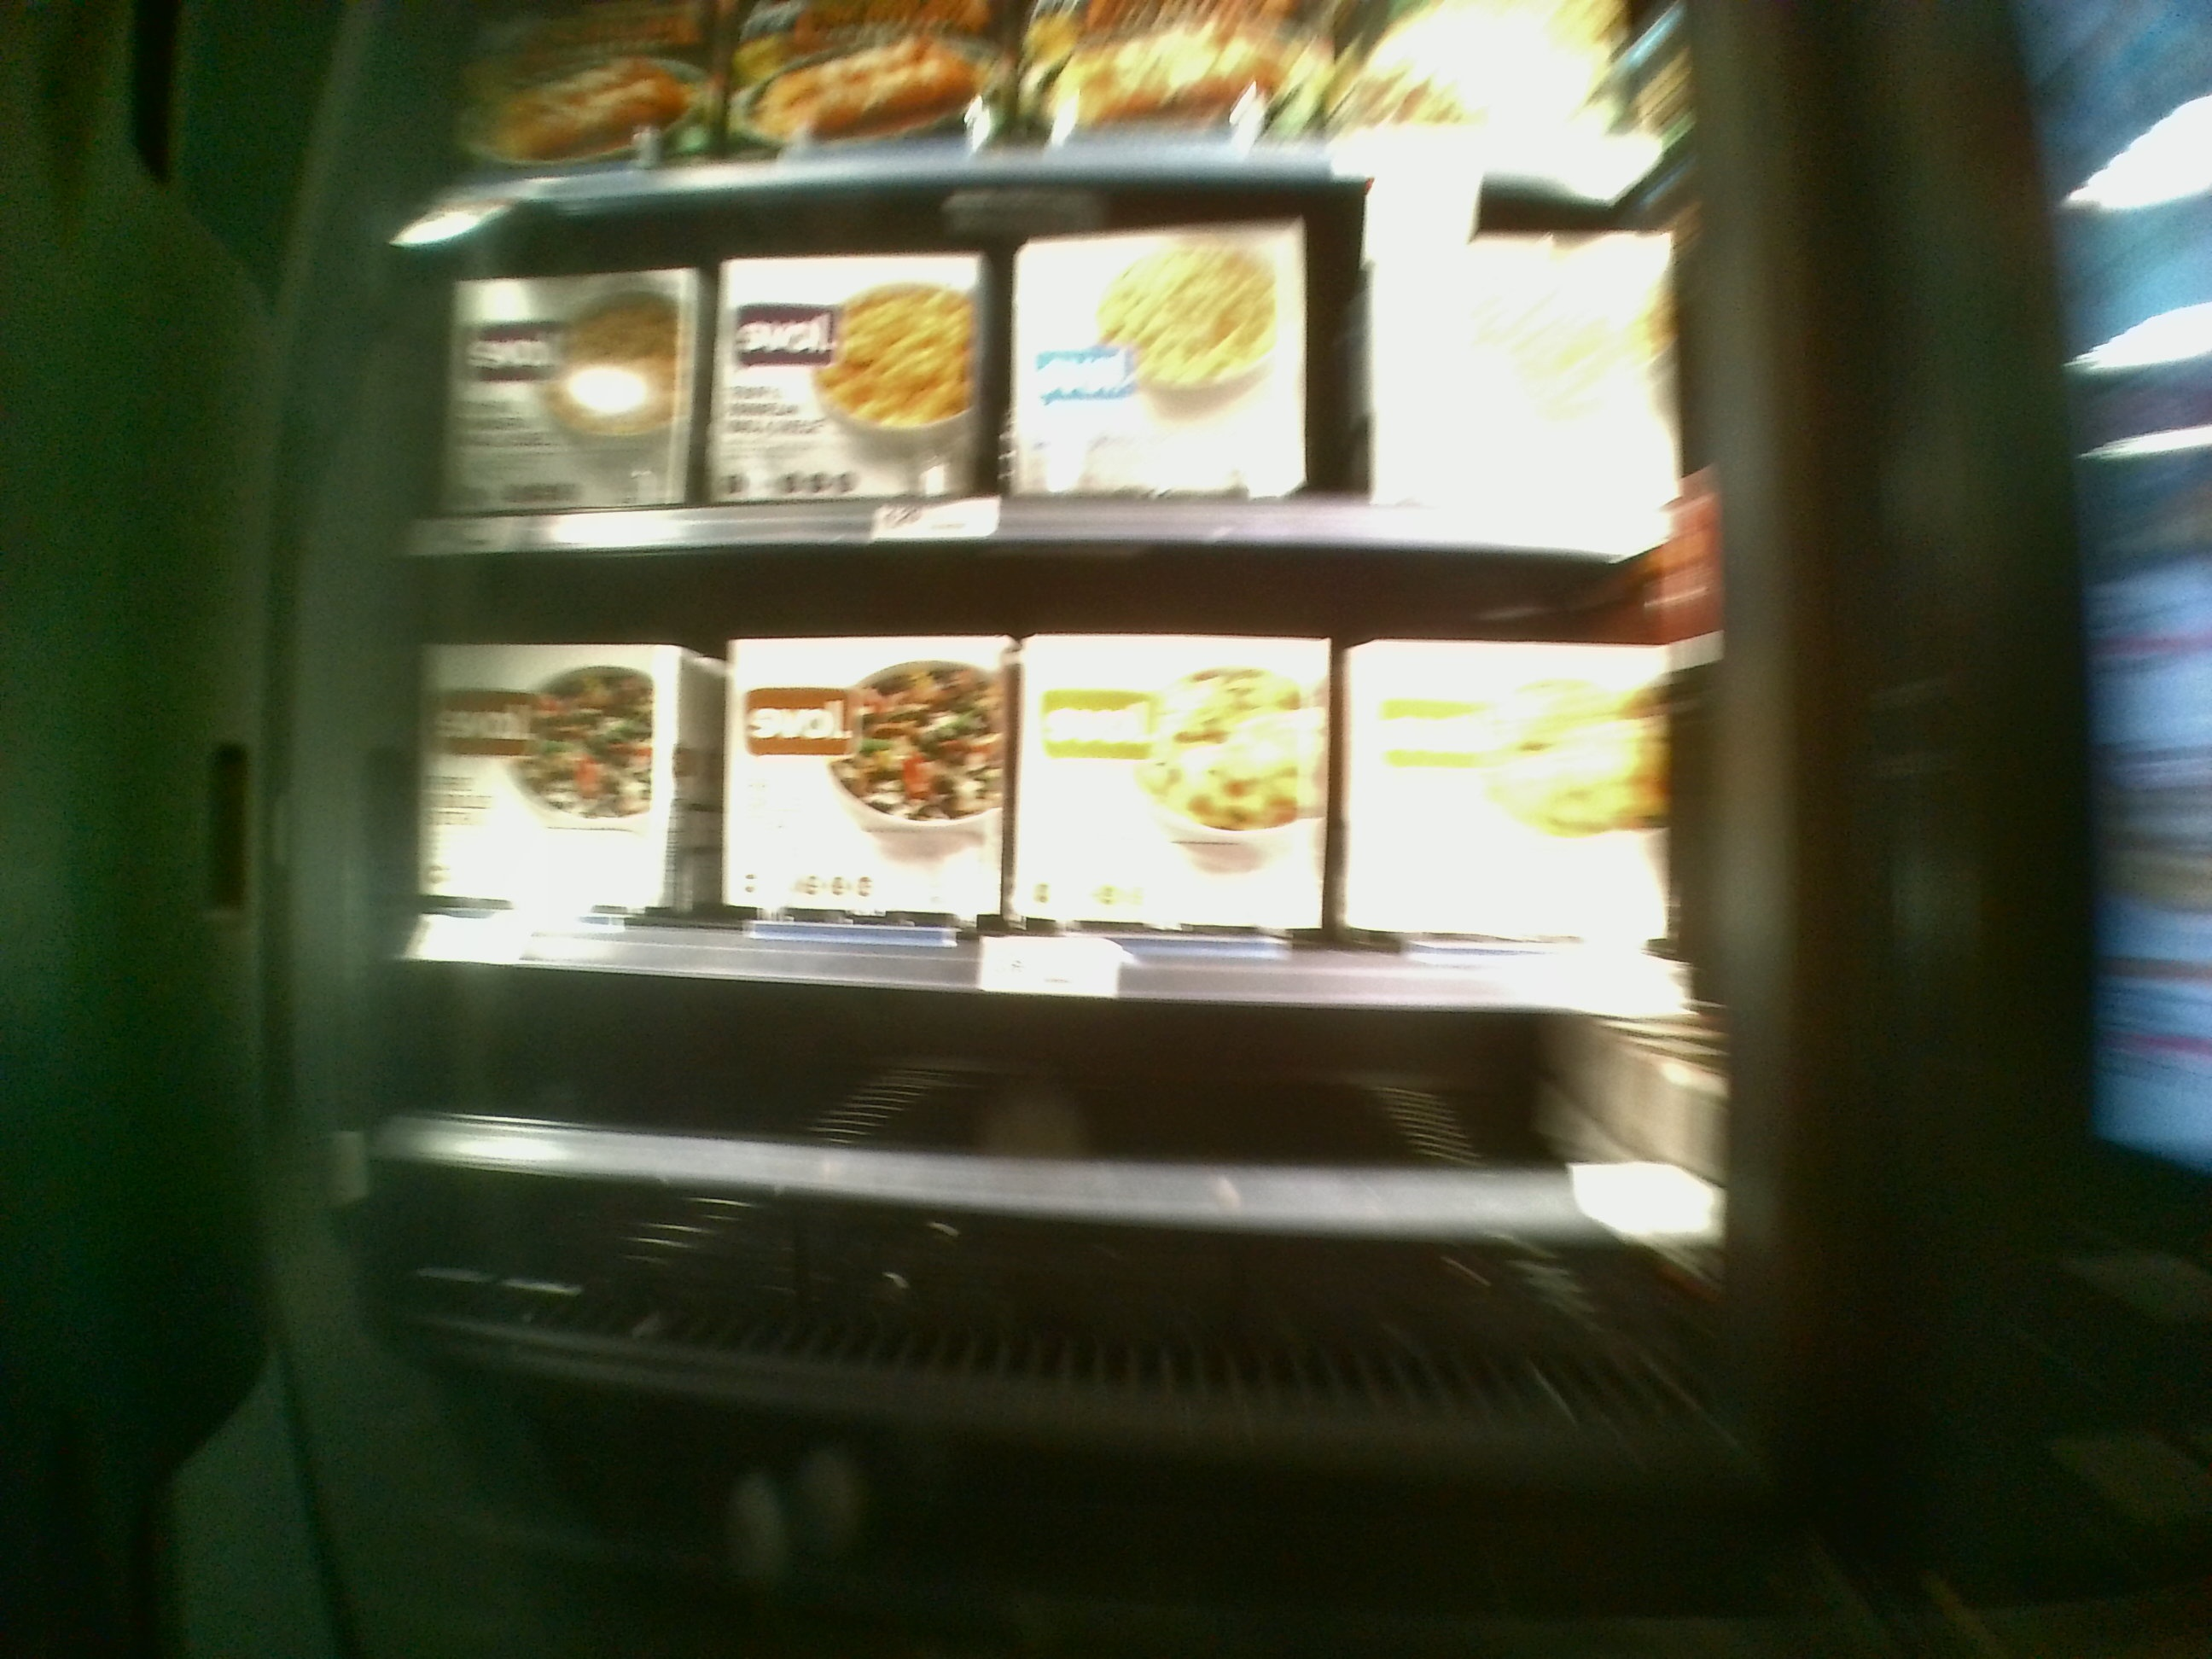shelf: (399, 558, 1698, 1009), (399, 190, 1693, 558), (402, 1004, 1702, 1359)
